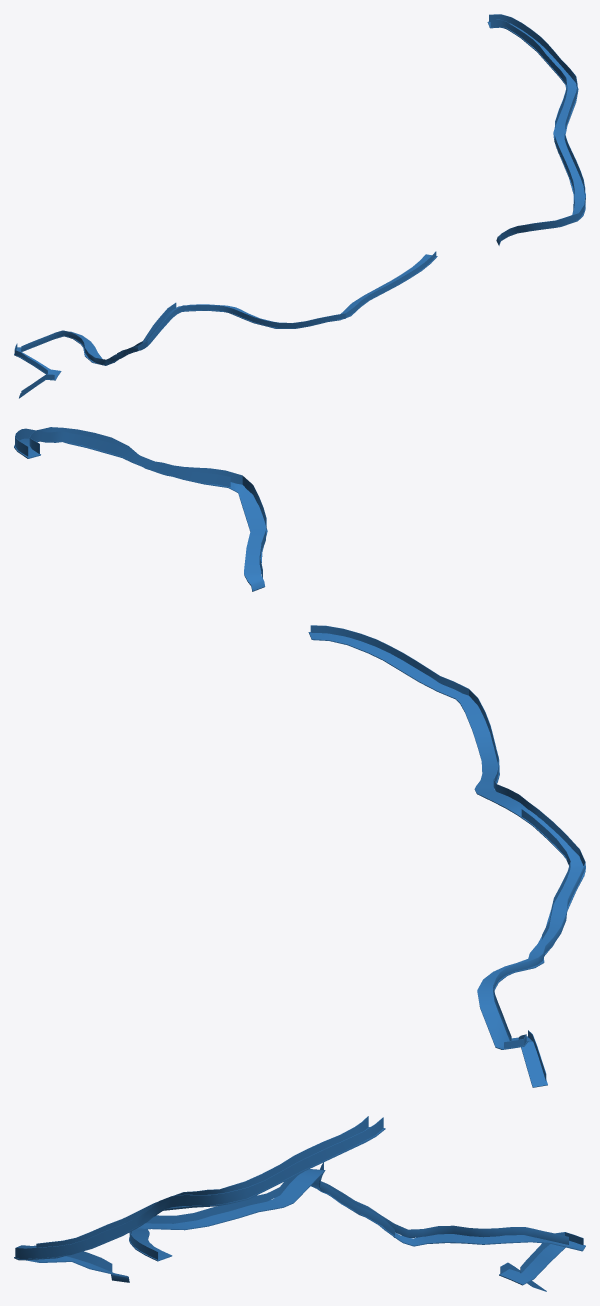
File: Dokdo_Stair_Collision.FBX
3 renders of one model, top to bottom at view 1: azimuth 30°, elevation 25°; view 2: azimuth 150°, elevation 25°; view 3: azimuth 270°, elevation 25°, orthographic. The views are drawn at different scales.
Visible parts, largest first — view 1: Dokdo_Stair_Collision; view 2: Dokdo_Stair_Collision; view 3: Dokdo_Stair_Collision.
Boxes of the visible parts, x1,y1,x2,y2 form: Dokdo_Stair_Collision: [14, 14, 585, 398]; Dokdo_Stair_Collision: [14, 427, 585, 1087]; Dokdo_Stair_Collision: [14, 1116, 585, 1291].
Bounding box in the file's own units: 108 × 71.78 × 77.4.
